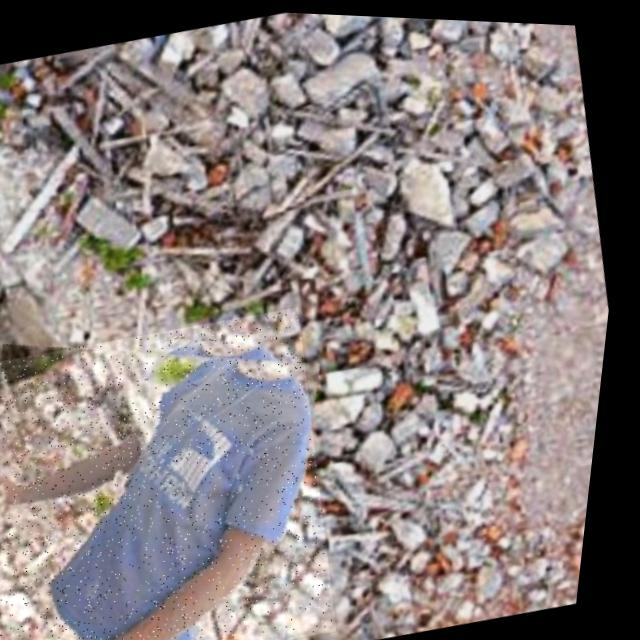Person in Rubble: (0, 292, 378, 640)
